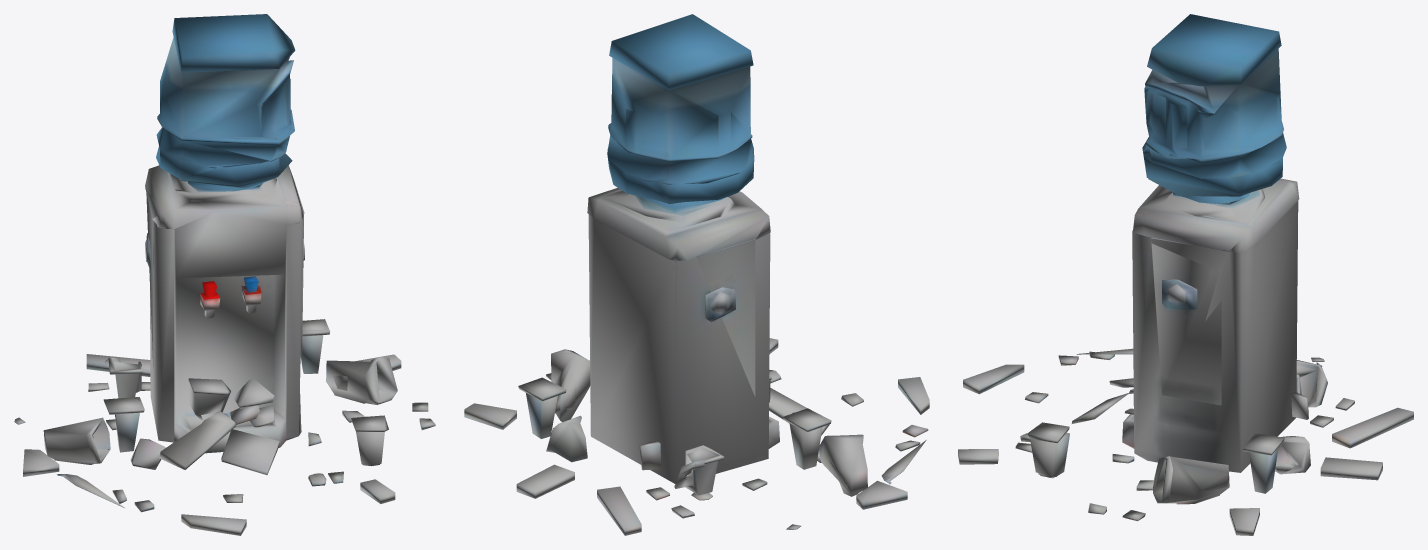
File: model.progressive.glb
3 views of the same model, side by side, from view 1: azimuth 30°, elevation 25°; view 2: azimuth 150°, elevation 25°; view 3: azimuth 270°, elevation 25° (orthographic). The views are drawn at different scales.
Visible parts, largest first — view 1: BrokenWaterCooler2; view 2: BrokenWaterCooler2; view 3: BrokenWaterCooler2.
Part boxes in pixels (left/top/right/bottom): BrokenWaterCooler2: left=14, top=14, right=435, bottom=535; BrokenWaterCooler2: left=464, top=14, right=929, bottom=535; BrokenWaterCooler2: left=958, top=14, right=1413, bottom=535.
Bounding box in the file's own units: 1.88 × 1.76 × 1.81.
Materials: 1 (1 with a texture image).
